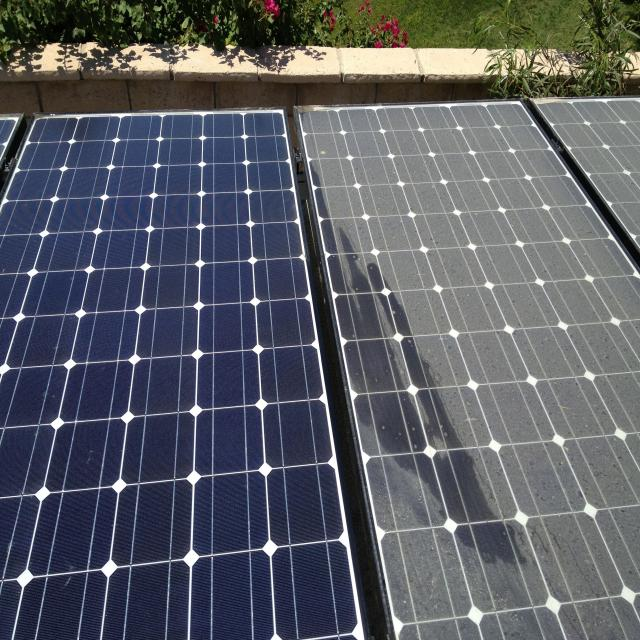clean-solar-panel: (0, 110, 371, 640)
